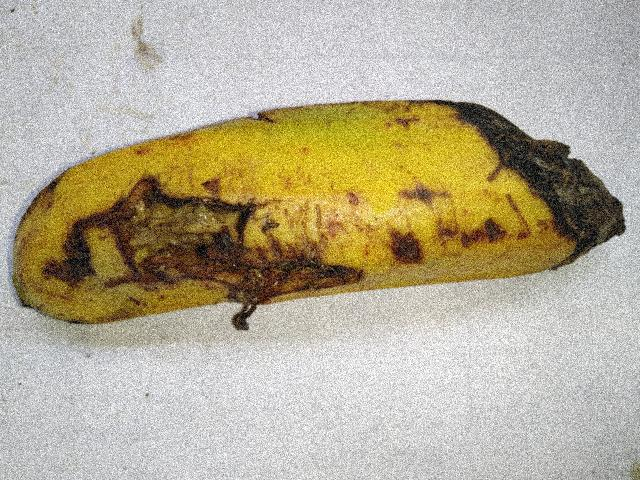ripe: (0, 87, 465, 357)
rotten: (24, 176, 389, 355), (428, 70, 623, 280)
